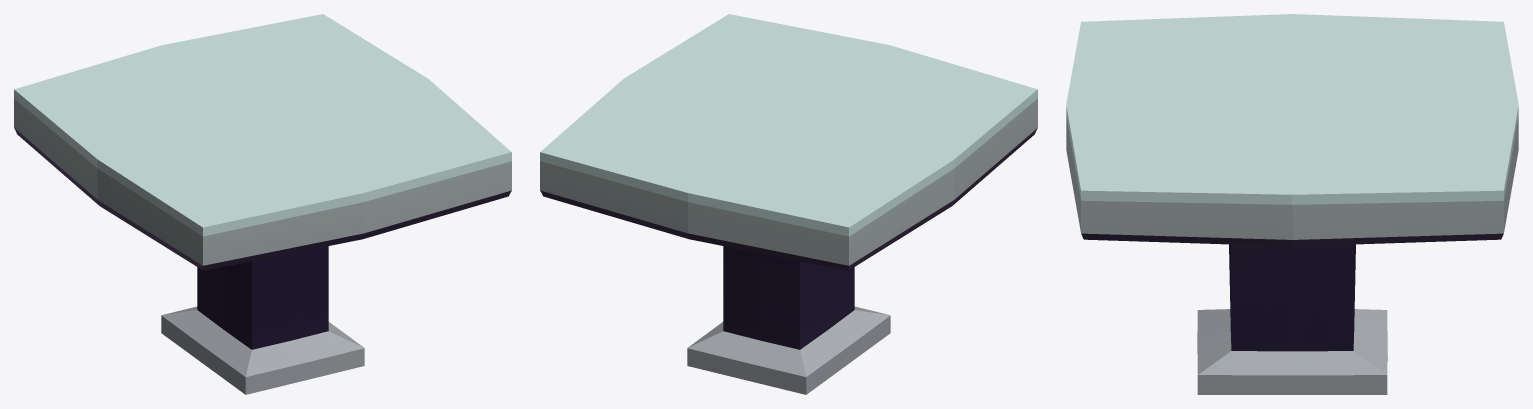
Rendered from Prop_Table_Modern.fbx.
3 views of the same model, side by side, from view 1: azimuth 30°, elevation 25°; view 2: azimuth 150°, elevation 25°; view 3: azimuth 270°, elevation 25° (orthographic). The views are drawn at different scales.
Parts seen in each view (by area): view 1: Table_White; view 2: Table_White; view 3: Table_White.
Boxes of the visible parts, left/top/right/bottom form: Table_White: left=14, top=14, right=511, bottom=394; Table_White: left=540, top=14, right=1037, bottom=394; Table_White: left=1066, top=14, right=1518, bottom=394.
Size of the model in its own units: 81.51 by 54.26 by 86.23.
